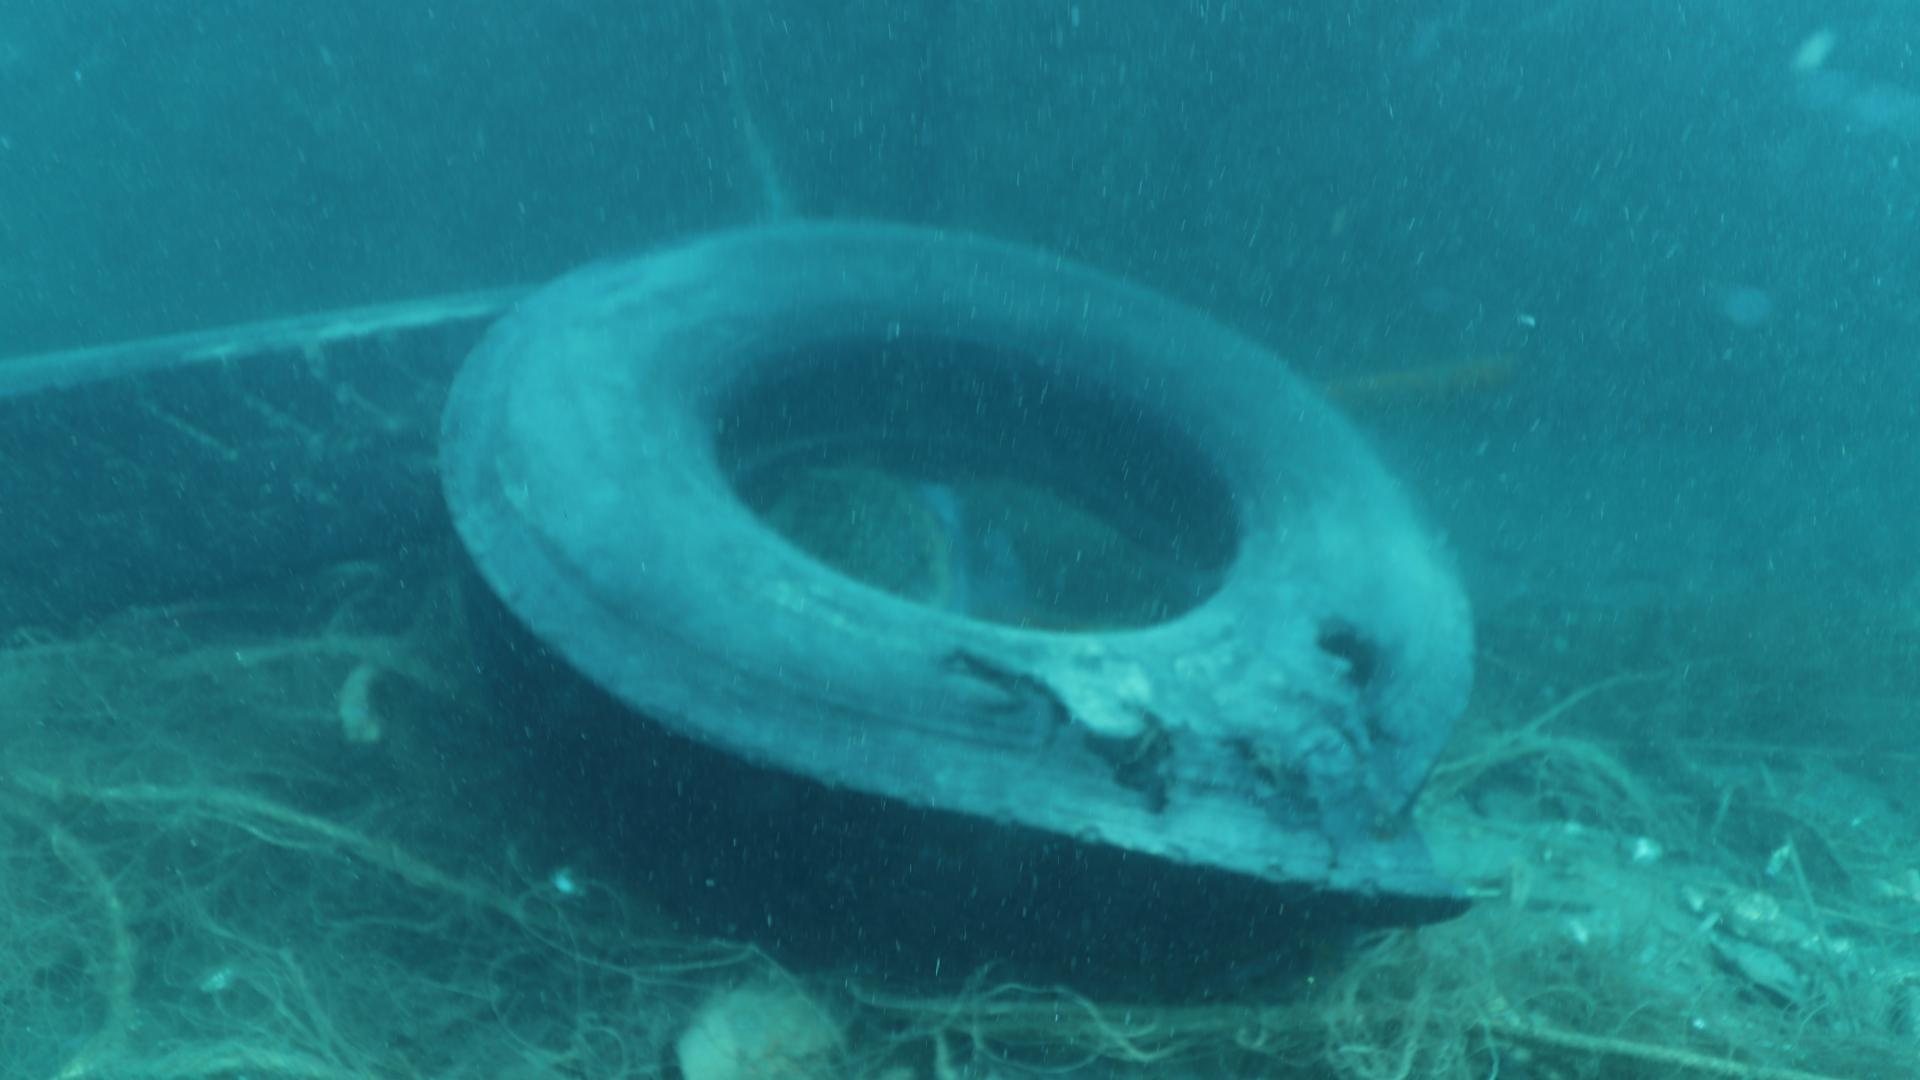tire: (429, 214, 1509, 992)
